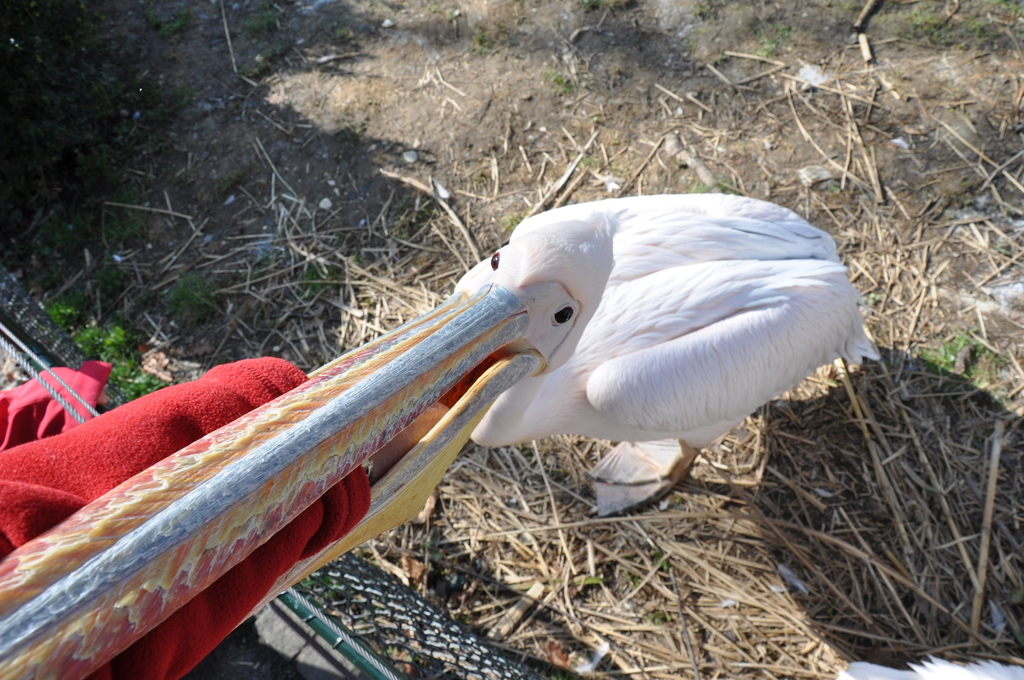Animal: (0, 193, 882, 678)
